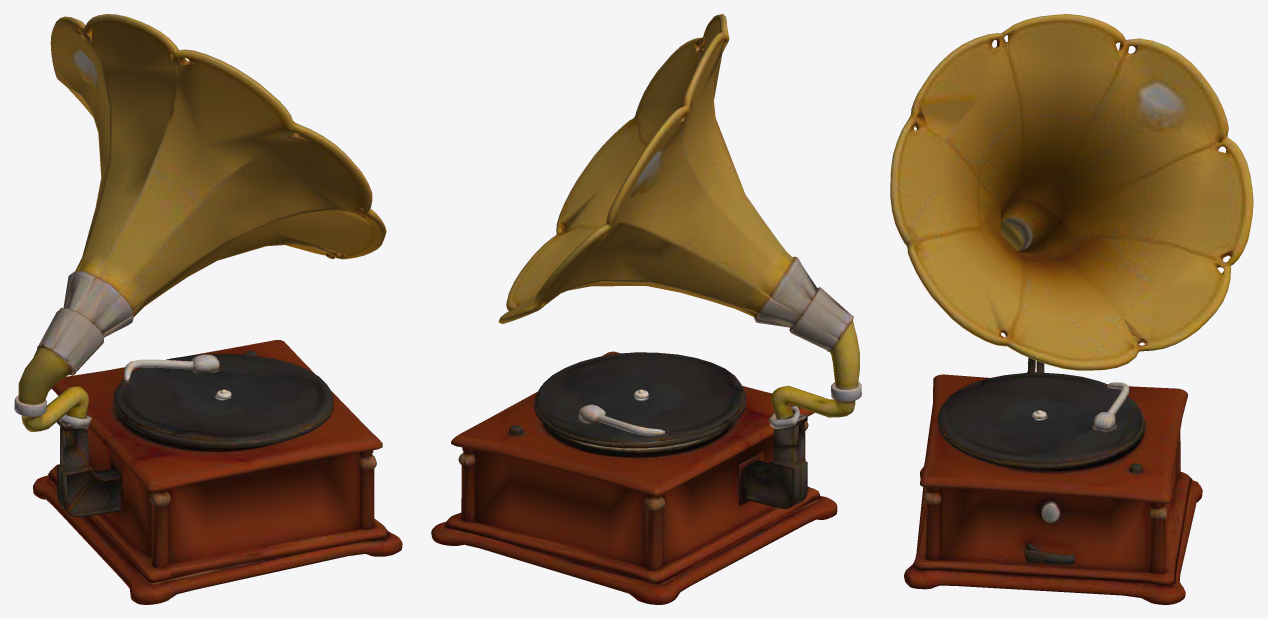
The model's file is gramophone.glb.
The picture shows the model from 3 angles, left to right: view 1: azimuth 30°, elevation 25°; view 2: azimuth 150°, elevation 25°; view 3: azimuth 270°, elevation 25°; orthographic projection. The views are drawn at different scales.
Parts seen in each view (by area): view 1: tripo_node_a4fd07e2-6dd6-4757-997e-c52d100037f2; view 2: tripo_node_a4fd07e2-6dd6-4757-997e-c52d100037f2; view 3: tripo_node_a4fd07e2-6dd6-4757-997e-c52d100037f2.
Boxes of the visible parts, x1,y1,x2,y2 form: tripo_node_a4fd07e2-6dd6-4757-997e-c52d100037f2: [14, 14, 402, 604]; tripo_node_a4fd07e2-6dd6-4757-997e-c52d100037f2: [431, 14, 861, 604]; tripo_node_a4fd07e2-6dd6-4757-997e-c52d100037f2: [890, 14, 1253, 604].
Bounding box in the file's own units: 0.7349 × 0.9995 × 0.6753.
Materials: 1 (1 with a texture image).
